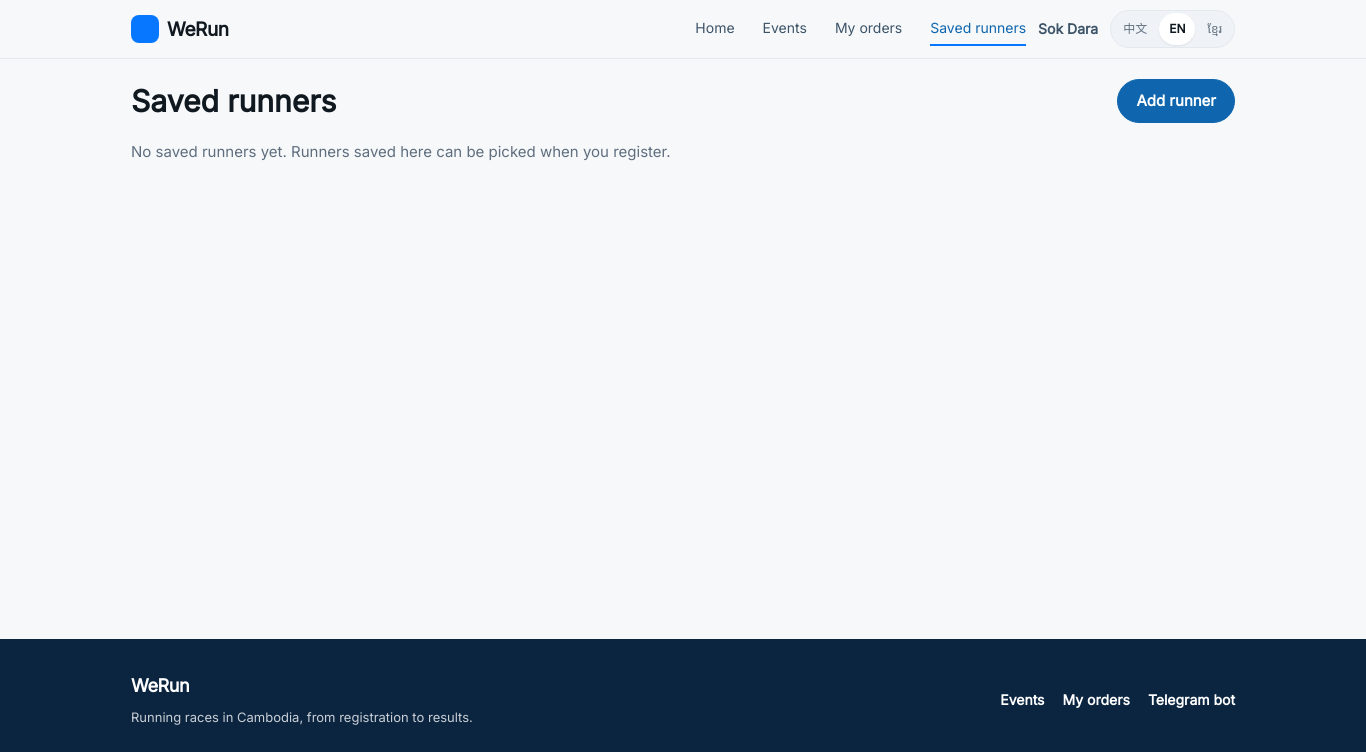
ProfilesPage › 提交空表单时逐项提示必填，不发请求
This screenshot has width=1366, height=752.
Click the button with test id "profile-create" at (1176, 101), box [1117, 79, 1235, 123]
(page scrolled)
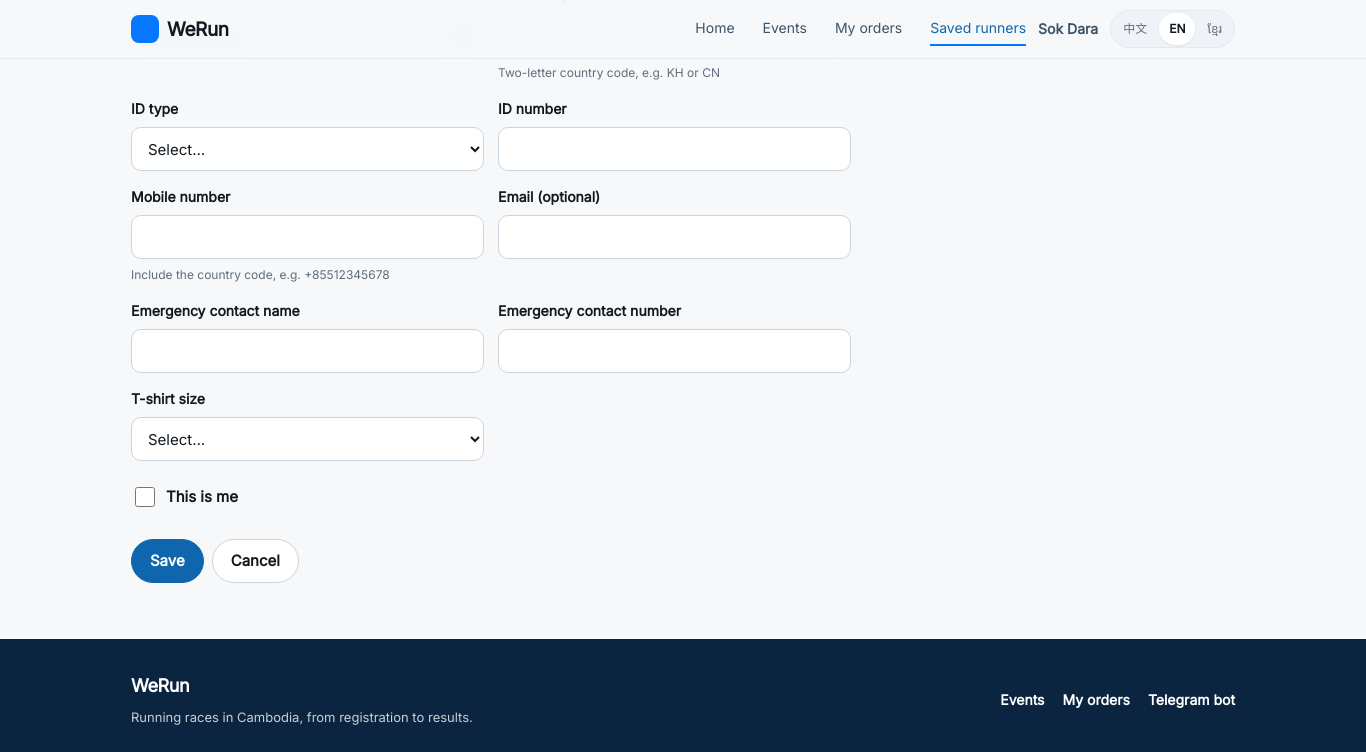
Click the button with test id "profile-submit" at (167, 561), box [131, 539, 204, 583]
(page scrolled)
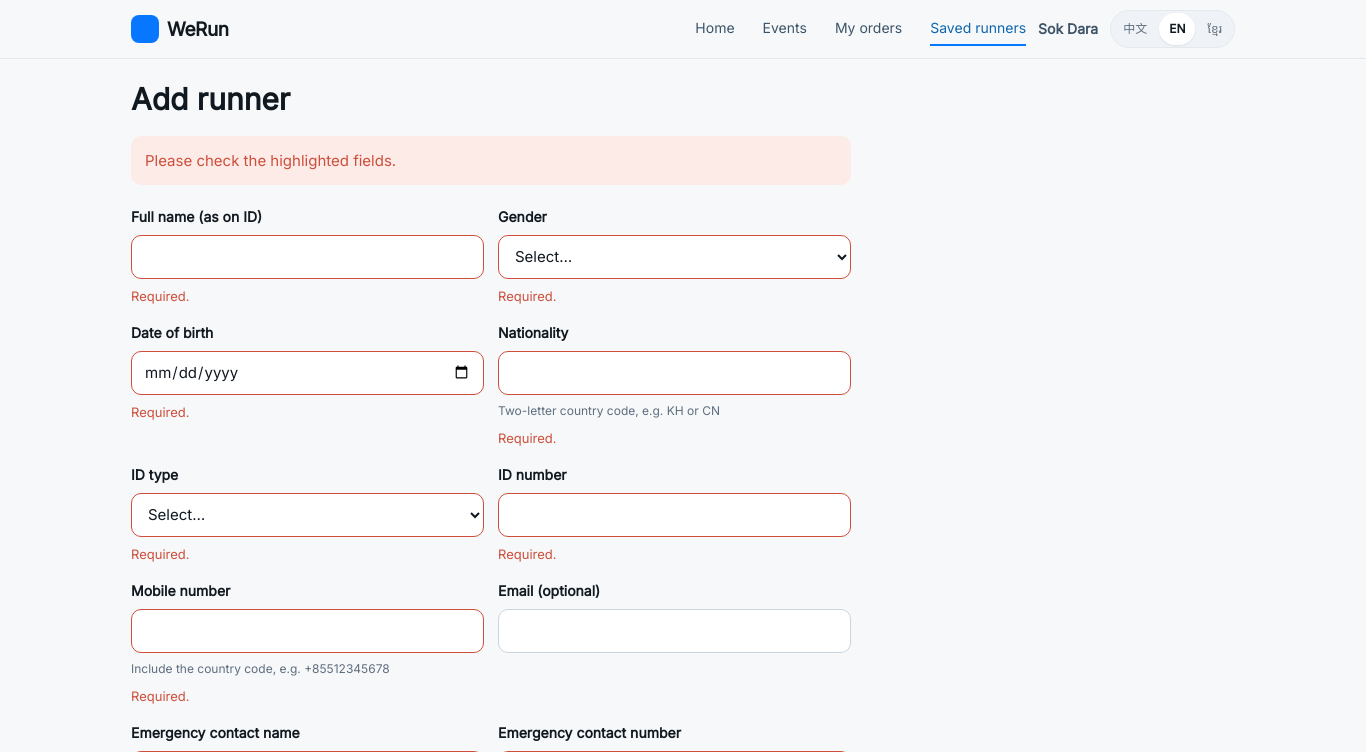
Now the message with test id "form-error" reads "Please check the highlighted fields.", box [145, 150, 396, 170]
Now the text with test id "profile-fullName-error" reads "Required.", box [131, 288, 190, 304]
Now the text with test id "profile-idNo-error" reads "Required.", box [498, 546, 556, 562]
